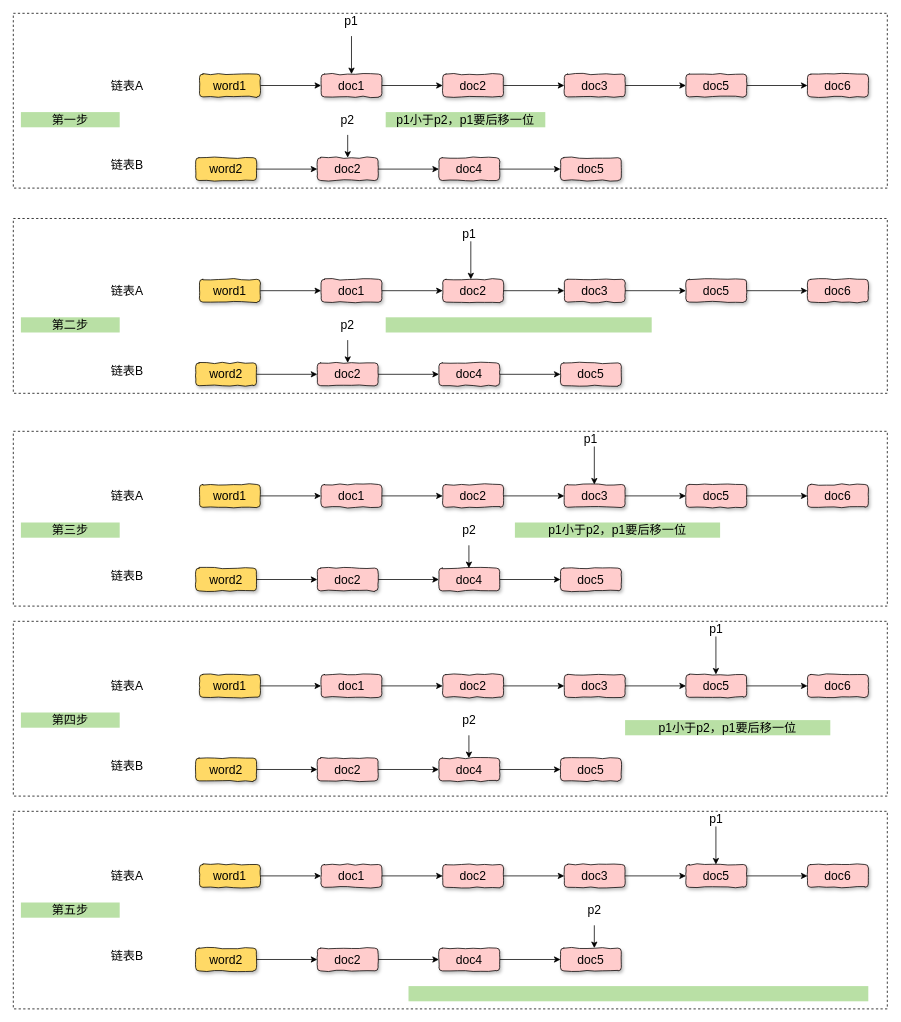
Image size: 901x1022. Some labels were removed from this diagram. Here are the shapes that lost their labels. From the top down, the centre of each, then its label:
the point at 518,324: p1=p2 找到公共元素doc2 p1和p2都要后移一位
the point at 638,993: p1等于p2，找到公共元素doc5 p1和p2都要后移一位，p2已到表尾，算法结束
